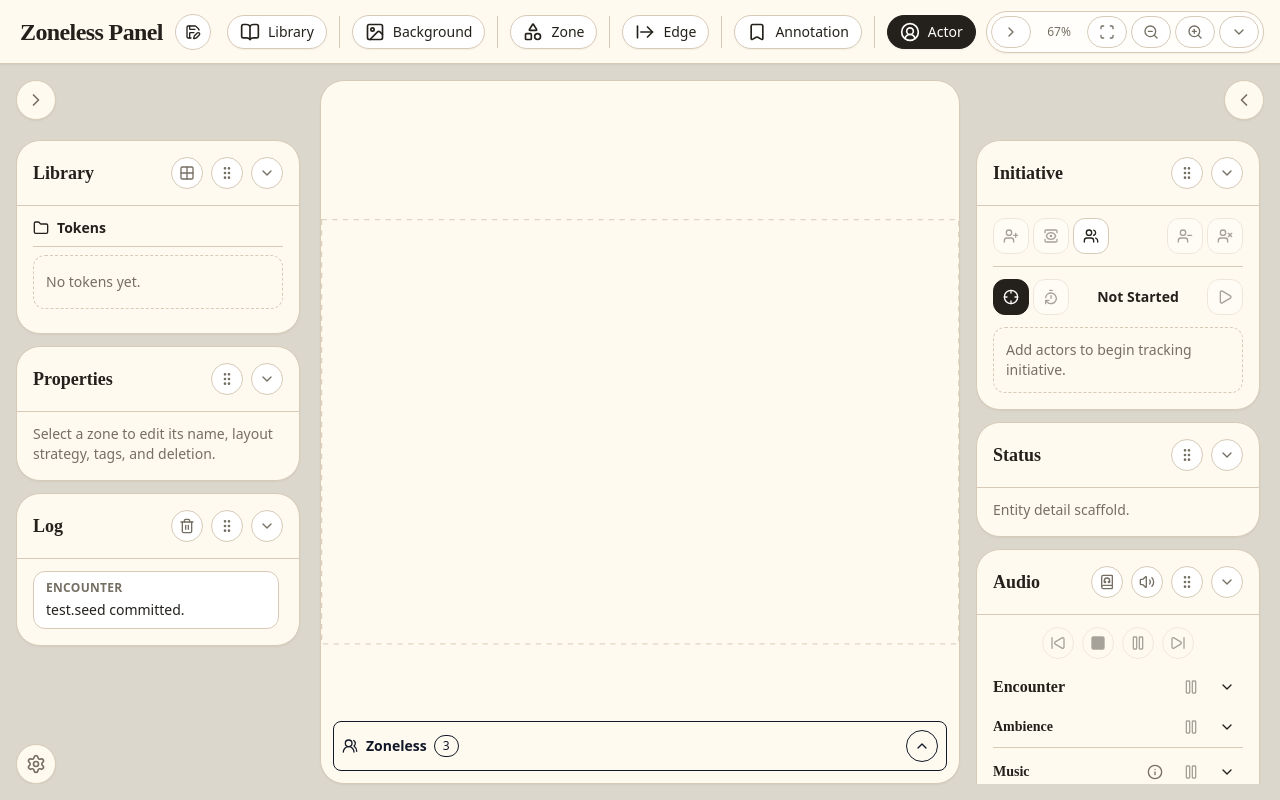
Test: ZonelessActorPanel display › groups actors by Hero, Neutral, Enemy while retaining alphabetical order
The width and height of the screenshot is (1280, 800).
Click the button named "Expand zoneless actors".
click(922, 746)  # box [906,730,938,762]
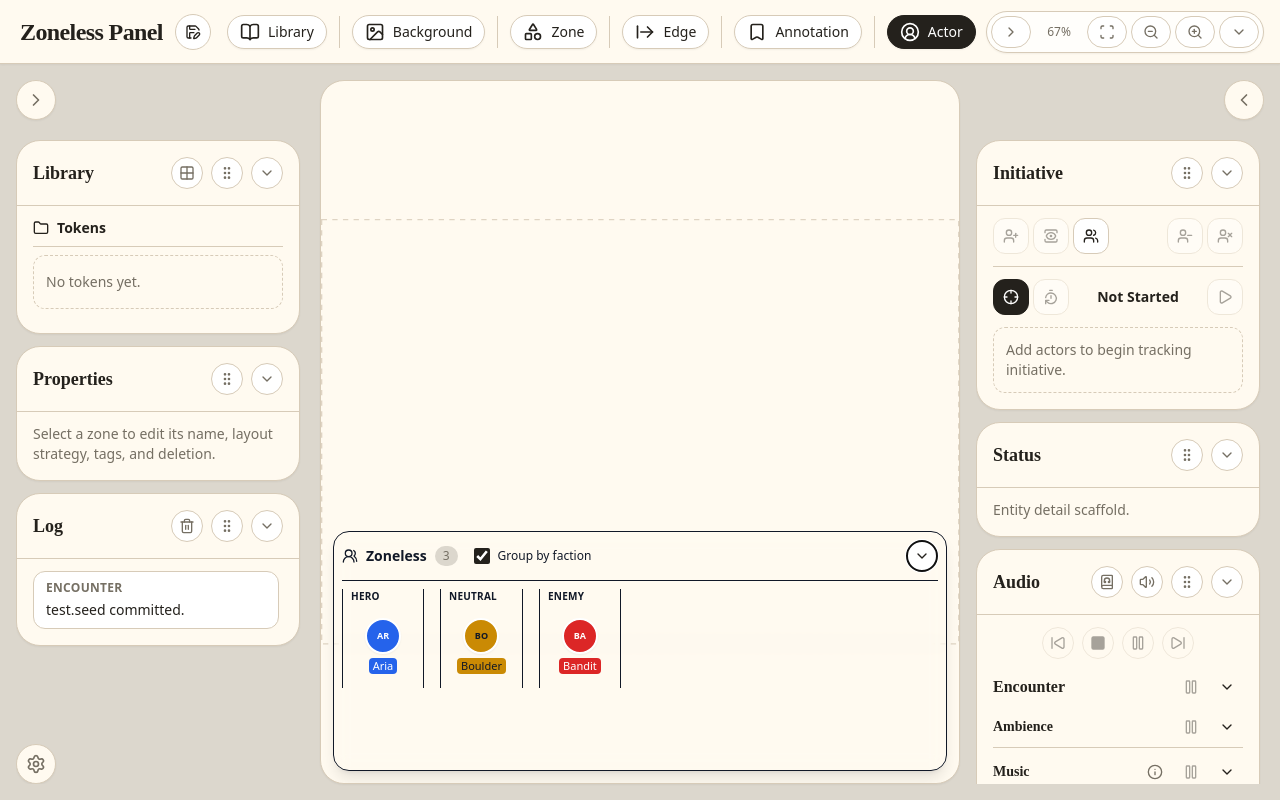
Now the checkbox labelled "Group by faction" is checked, box [474,548,490,564]
Now the headings read "Hero", "Neutral", "Enemy", in this order, box [351,589,380,603]; [449,589,497,603]; [548,589,584,603]
